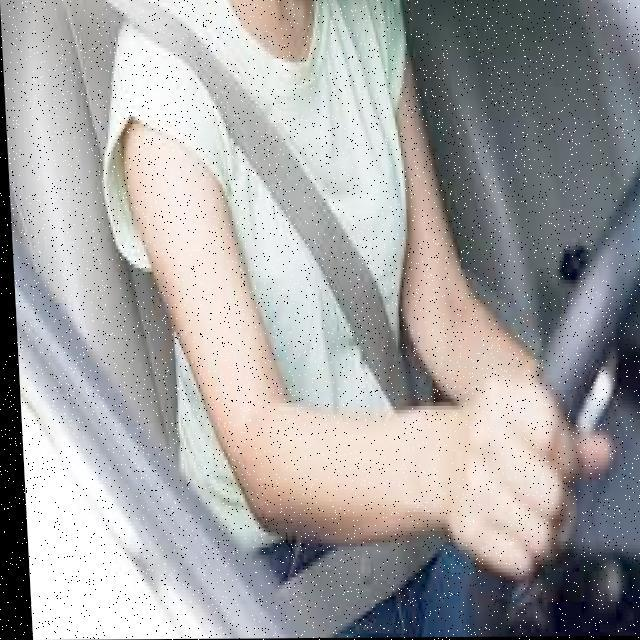seatbelt: (95, 0, 428, 457)
